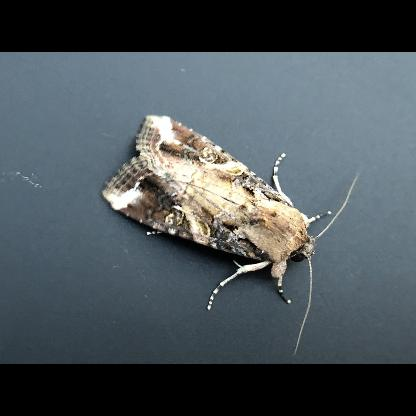Fall Armyworm Moth: (98, 112, 361, 358)
